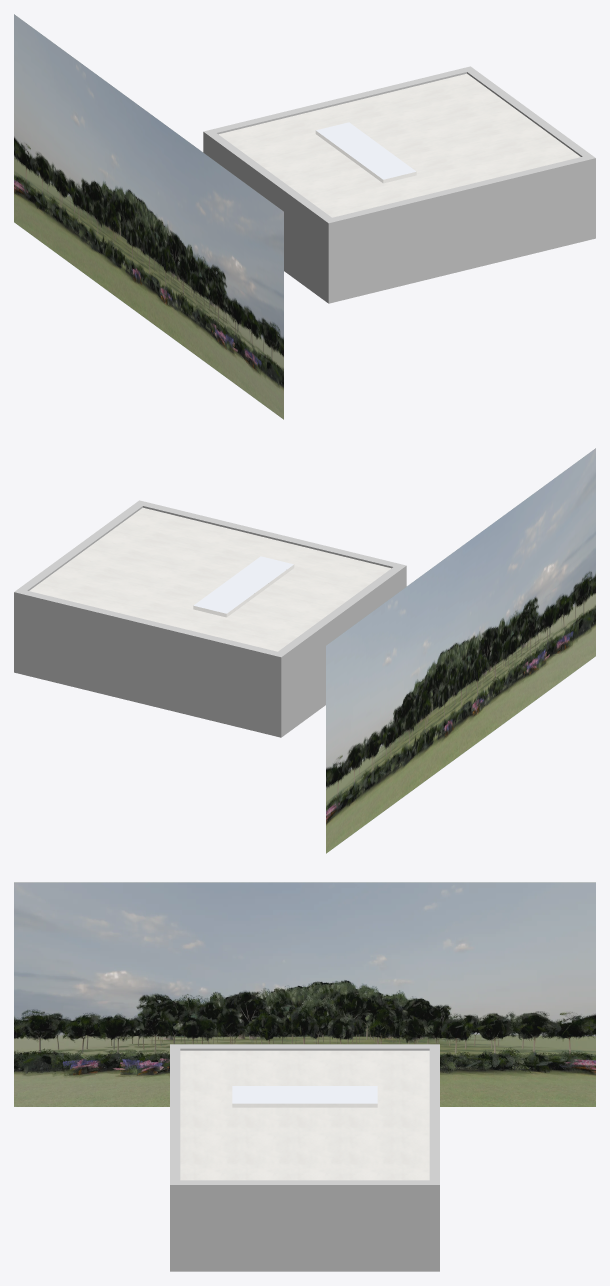
File: memorial.glb
3 views of the same model, one above another, from view 1: azimuth 30°, elevation 25°; view 2: azimuth 150°, elevation 25°; view 3: azimuth 270°, elevation 25° (orthographic). The views are drawn at different scales.
Parts seen in each view (by area): view 1: hall_fx, hall_lm, col__hall_wall_s, col__hall_wall_w, col__hall_wall_n, col__hall_wall_e; view 2: hall_fx, hall_lm, col__hall_wall_n, col__hall_wall_w, col__hall_wall_s, col__hall_wall_e; view 3: hall_fx, hall_lm, col__hall_wall_e, col__hall_wall_s, col__hall_wall_n, col__hall_wall_w.
Part boxes in pixels (x1=…): hall_fx: x1=14, y1=14, x2=415, y2=419; hall_lm: x1=218, y1=73, x2=580, y2=217; col__hall_wall_s: x1=324, y1=154, x2=595, y2=303; col__hall_wall_w: x1=203, y1=131, x2=336, y2=303; col__hall_wall_n: x1=203, y1=67, x2=470, y2=152; col__hall_wall_e: x1=464, y1=66, x2=595, y2=239; hall_fx: x1=194, y1=448, x2=595, y2=853; hall_lm: x1=29, y1=507, x2=391, y2=651; col__hall_wall_n: x1=14, y1=588, x2=285, y2=737; col__hall_wall_w: x1=273, y1=565, x2=406, y2=736; col__hall_wall_s: x1=136, y1=501, x2=406, y2=589; col__hall_wall_e: x1=14, y1=500, x2=146, y2=674; hall_fx: x1=14, y1=882, x2=595, y2=1106; hall_lm: x1=180, y1=1050, x2=429, y2=1180; col__hall_wall_e: x1=170, y1=1180, x2=439, y2=1271; col__hall_wall_s: x1=170, y1=1044, x2=180, y2=1271; col__hall_wall_n: x1=429, y1=1044, x2=439, y2=1271; col__hall_wall_w: x1=170, y1=1044, x2=437, y2=1050.
Bounding box in the file's own units: 23 × 11.91 × 28.
Materials: 11 (7 with a texture image).
